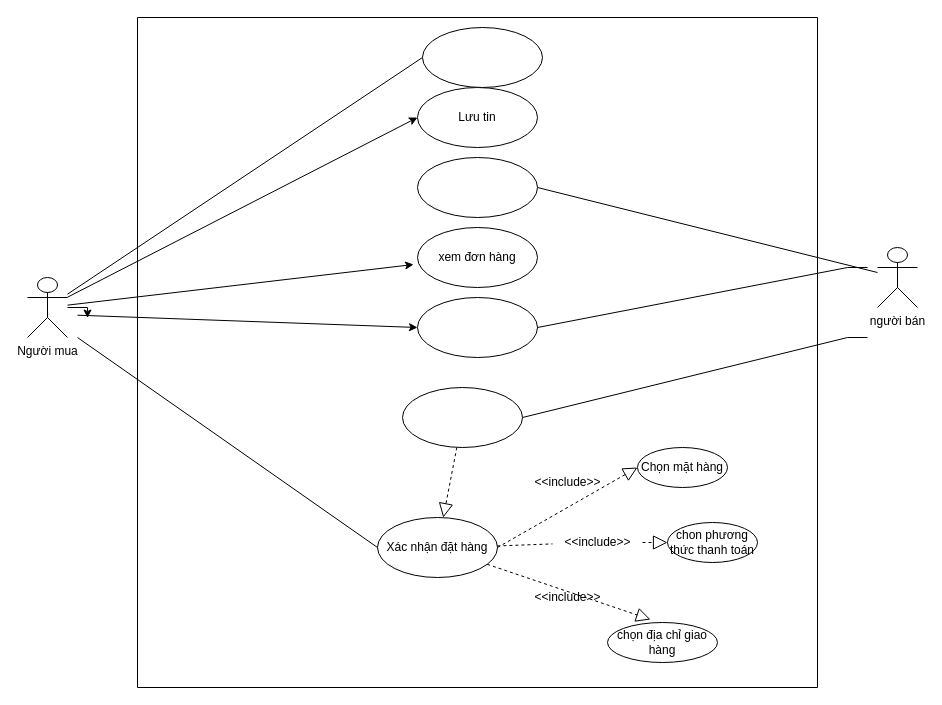
Image size: 942x705. Some labels were removed from this diagram. Here are the shapes that lost their labels. From the top down, the centre of each, then its label:
At pixel 482 57: "Liên hệ".
At pixel 477 187: "quản lý tin (thêm xóa sửa)".
At pixel 477 327: "Đăng ký/Đăng nhập".
At pixel 462 417: "Xác nhận đơn hàng".
